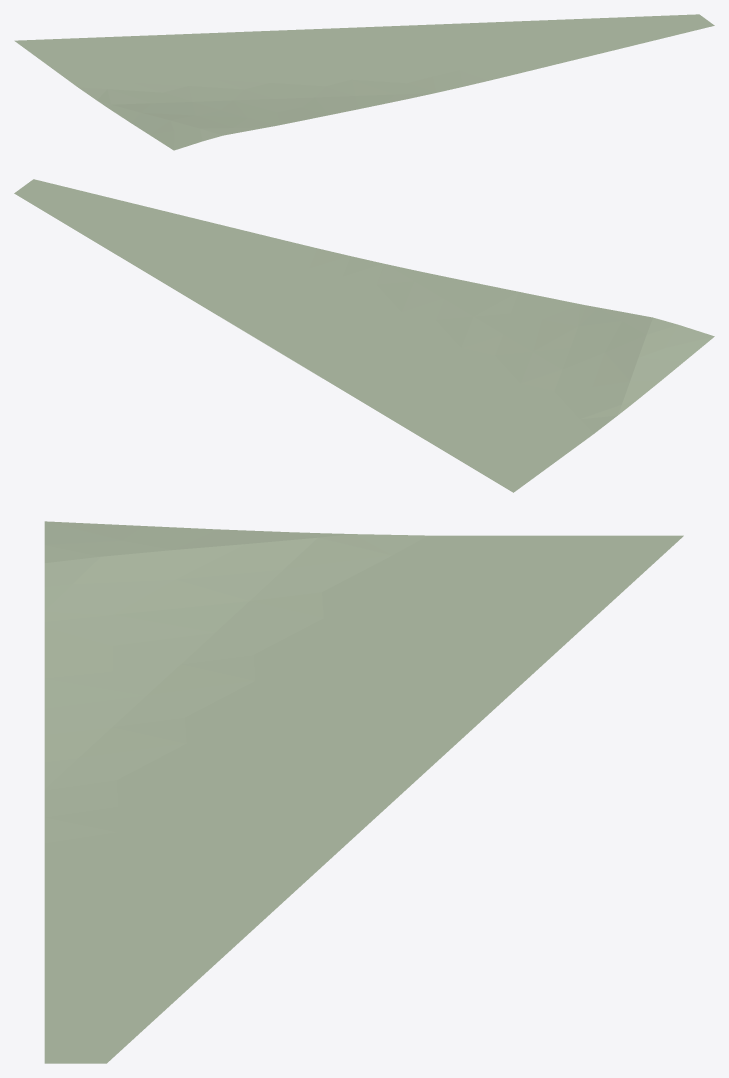
Rendered from SM_MPRR_Terrain_-2_5.fbx.
3 views of the same model, one above another, from view 1: azimuth 30°, elevation 25°; view 2: azimuth 150°, elevation 25°; view 3: azimuth 270°, elevation 25° (orthographic). The views are drawn at different scales.
Visible parts, largest first — view 1: SM_MPRR_Terrain_-2_5; view 2: SM_MPRR_Terrain_-2_5; view 3: SM_MPRR_Terrain_-2_5.
Part boxes in pixels (x1,y1,x2,y2): SM_MPRR_Terrain_-2_5: (14, 14, 714, 150); SM_MPRR_Terrain_-2_5: (14, 179, 714, 492); SM_MPRR_Terrain_-2_5: (44, 521, 683, 1063).
Bounding box in the file's own units: 15000 × 7681 × 268.
